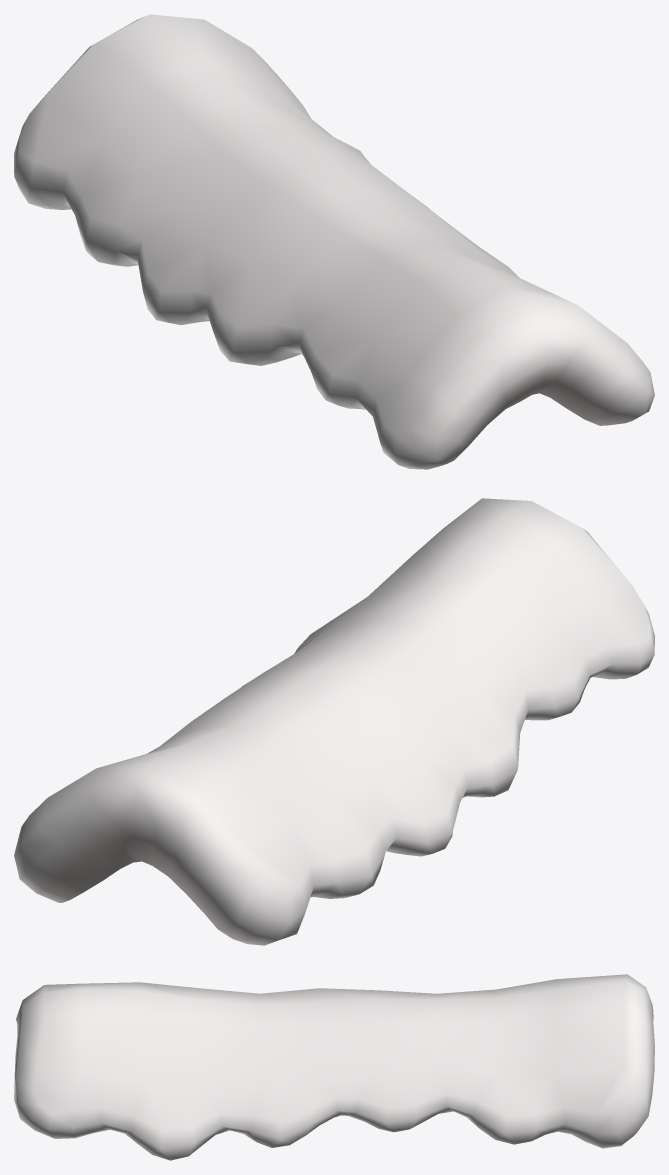
Rendered from Roof_snow_001.fbx.
3 renders of one model, top to bottom at view 1: azimuth 30°, elevation 25°; view 2: azimuth 150°, elevation 25°; view 3: azimuth 270°, elevation 25°, orthographic. The views are drawn at different scales.
Visible parts, largest first — view 1: Roof_snow_001; view 2: Roof_snow_001; view 3: Roof_snow_001.
Part boxes in pixels (x1=…): Roof_snow_001: x1=14, y1=14, x2=654, y2=469; Roof_snow_001: x1=14, y1=498, x2=654, y2=945; Roof_snow_001: x1=14, y1=974, x2=654, y2=1160.
Size of the model in its own units: 2.79 by 1.53 by 6.88.
